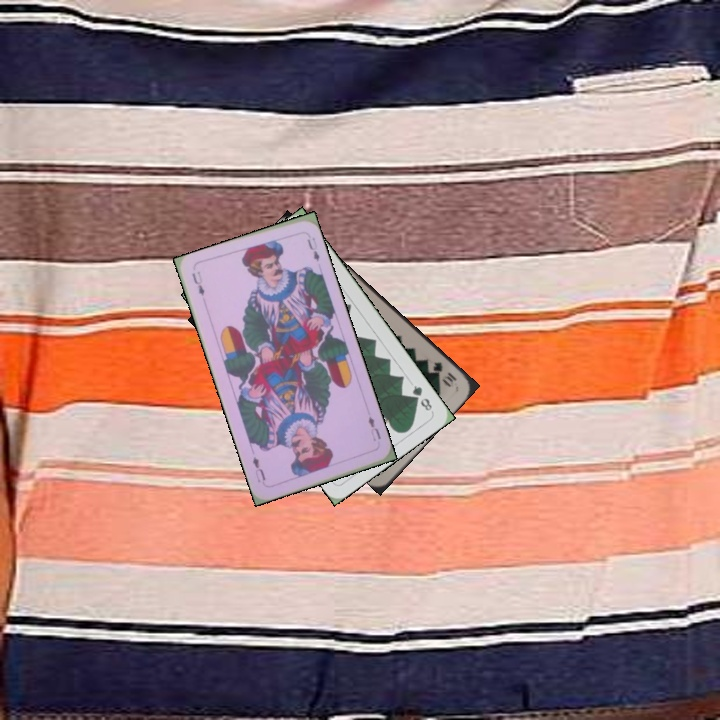EU: (364, 412, 383, 444), (188, 267, 207, 299)
G10: (429, 357, 460, 390)
G8: (408, 381, 435, 415)
